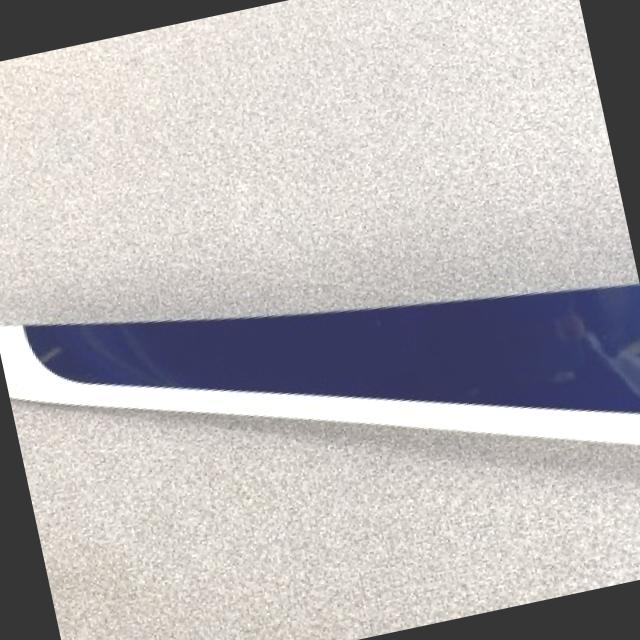healthy: (12, 399, 640, 640), (0, 282, 640, 439)
